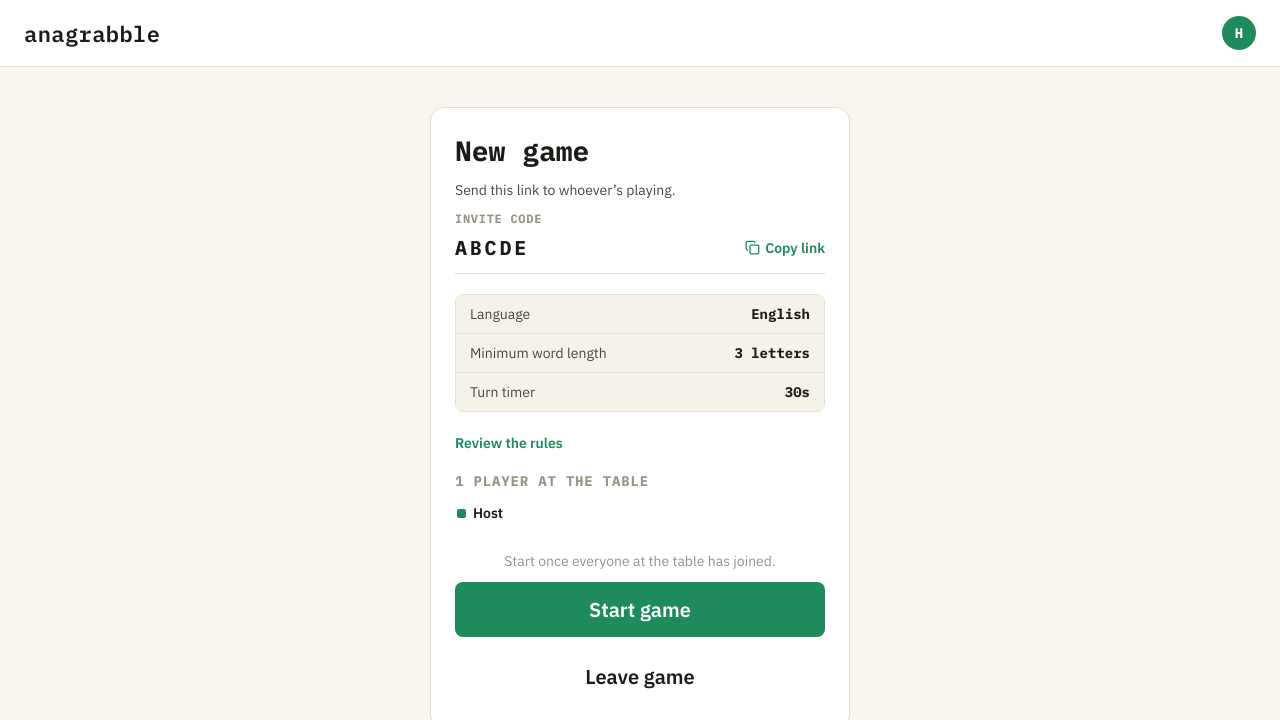
Test: GamePage › opens the rules modal from the Review the rules link
Click the button "Review the rules". click: x=509, y=443
box: x1=455 y1=434 x2=563 y2=452
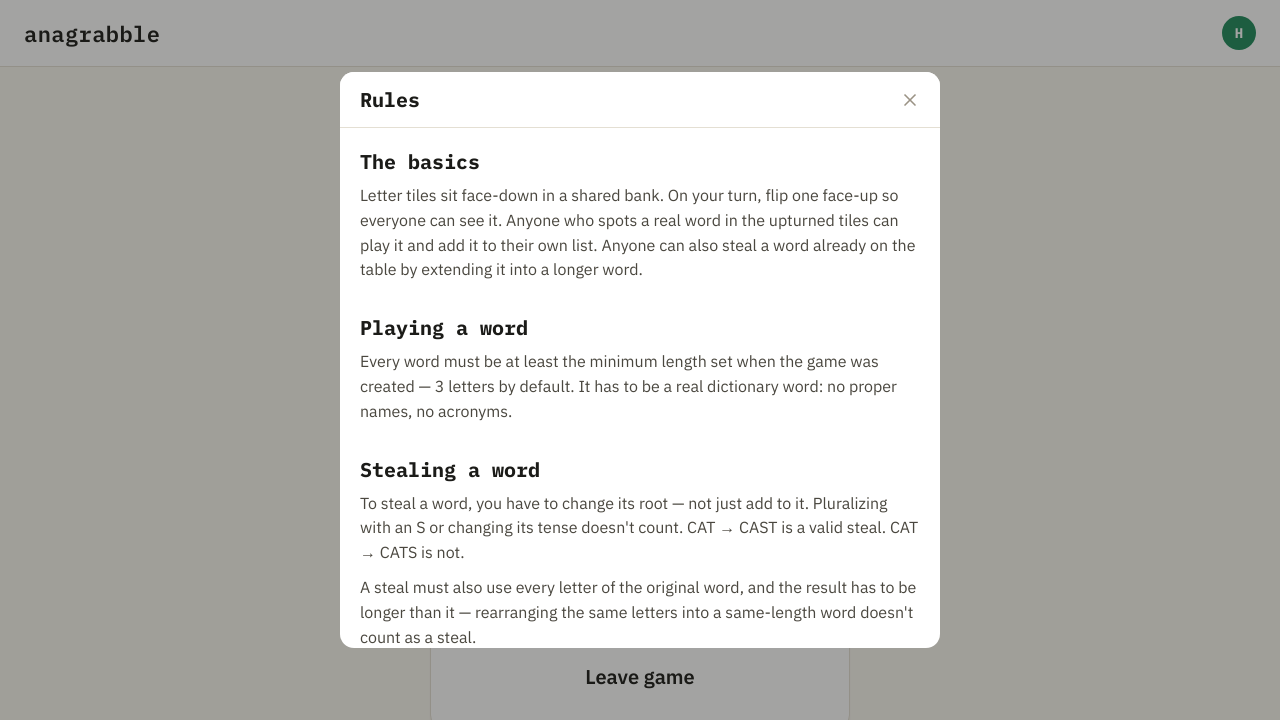
Check: the dialog "Rules" is shown, box x1=340 y1=72 x2=940 y2=648
